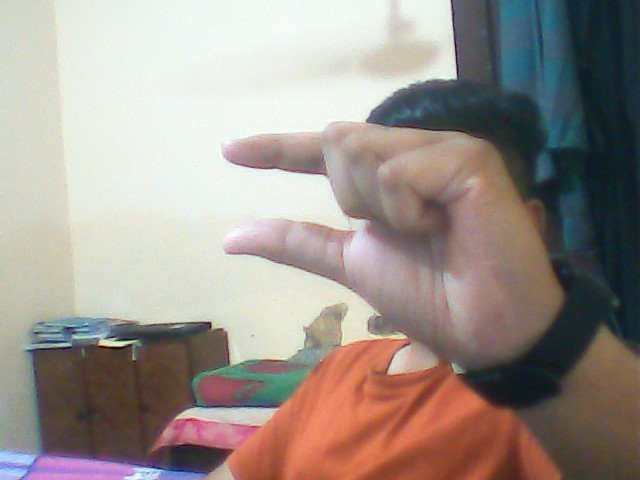small: (213, 113, 554, 332)
